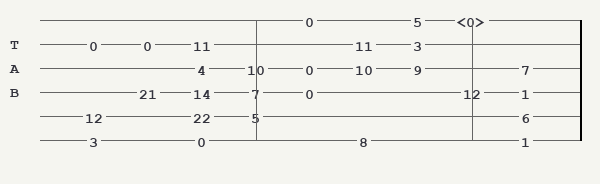0: (89, 38, 102, 51), (143, 38, 156, 51), (197, 134, 210, 147), (305, 86, 318, 99), (305, 14, 318, 27), (305, 62, 318, 75)
1: (521, 134, 534, 147), (521, 86, 534, 99)
10: (247, 62, 269, 75), (355, 62, 377, 75)
11: (193, 38, 215, 51), (355, 38, 377, 51)
12: (85, 110, 107, 123), (463, 86, 485, 99)
14: (193, 86, 215, 99)
21: (139, 86, 161, 99)
22: (193, 110, 215, 123)
3: (89, 134, 102, 147), (413, 38, 426, 51)
4: (197, 62, 210, 75)
5: (251, 110, 264, 123), (413, 14, 426, 27)
6: (521, 110, 534, 123)
7: (251, 86, 264, 99), (521, 62, 534, 75)
8: (359, 134, 372, 147)
9: (413, 62, 426, 75)
harmonic: (457, 14, 490, 27)
